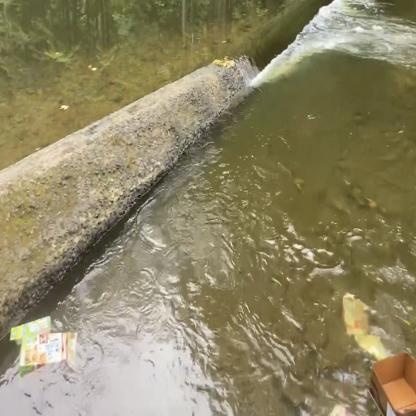trash: (340, 288, 398, 365), (14, 324, 84, 380), (364, 346, 416, 416), (5, 313, 54, 349)
